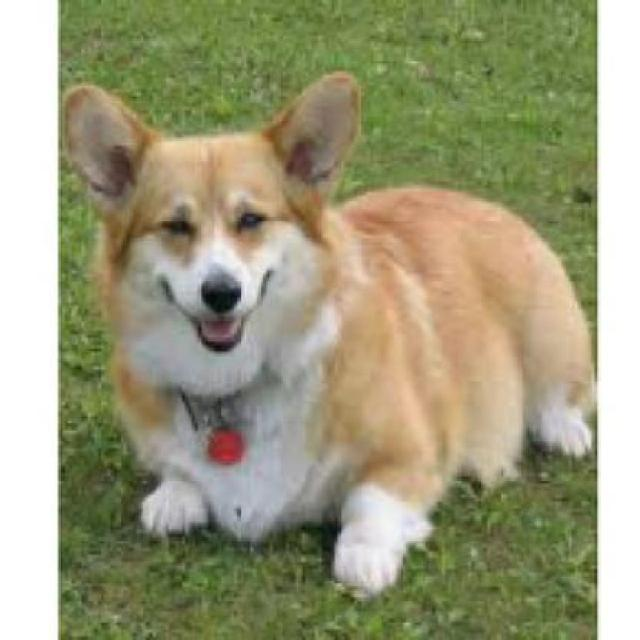Dog: (63, 70, 597, 596)
